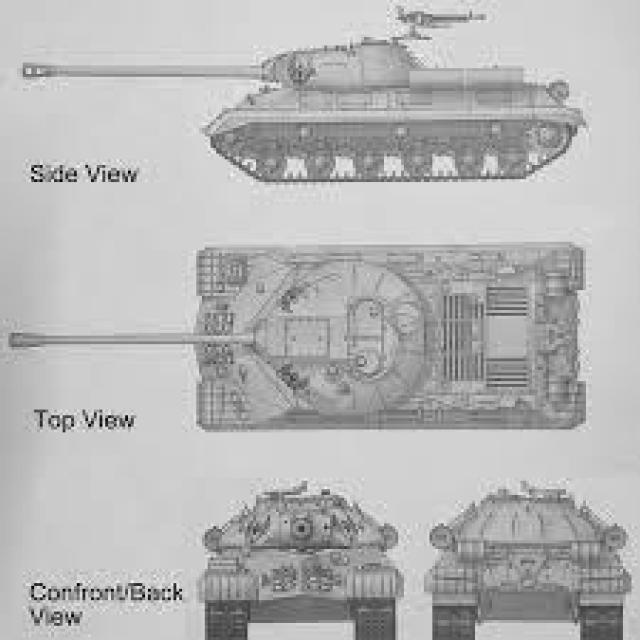MIL_MBT: (179, 226, 594, 442), (104, 28, 587, 191), (417, 489, 630, 637), (193, 478, 398, 629)
